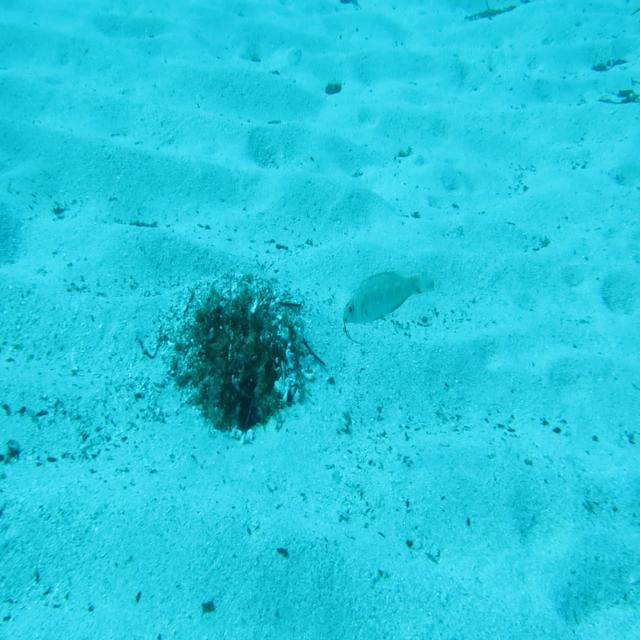AM: (334, 268, 435, 327)
nest: (156, 256, 317, 444)
vegetation: (340, 300, 364, 347)
